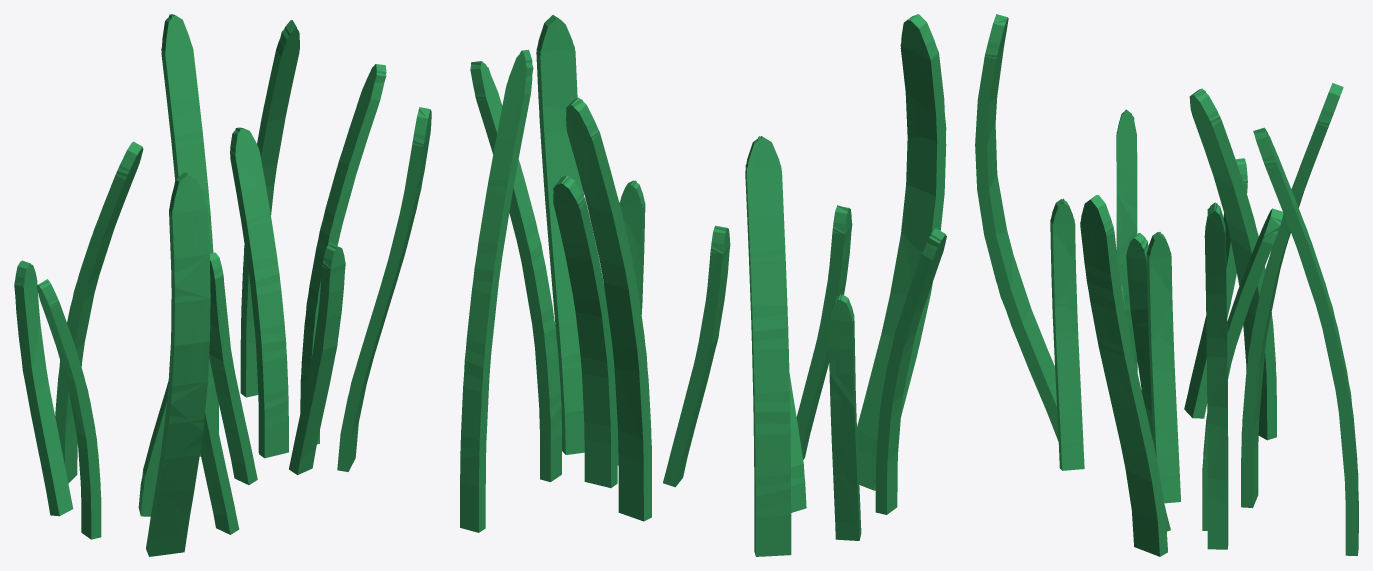
File: littleGrassL.fbx
The picture shows the model from 3 angles, left to right: view 1: azimuth 30°, elevation 25°; view 2: azimuth 150°, elevation 25°; view 3: azimuth 270°, elevation 25°; orthographic projection. The views are drawn at different scales.
Visible parts, largest first — view 1: littleGrassL, littleGrassL2, littleGrassL1; view 2: littleGrassL2, littleGrassL, littleGrassL1; view 3: littleGrassL2, littleGrassL, littleGrassL1.
Part boxes in pixels (<box>): littleGrassL: <box>15,14,430,556</box>; littleGrassL2: <box>14,14,431,555</box>; littleGrassL1: <box>24,15,431,556</box>; littleGrassL2: <box>460,14,946,555</box>; littleGrassL: <box>461,15,946,556</box>; littleGrassL1: <box>460,14,946,556</box>; littleGrassL2: <box>975,14,1358,554</box>; littleGrassL: <box>975,14,1358,556</box>; littleGrassL1: <box>975,18,1358,556</box>.
Bounding box in the file's own units: 26.63 × 26.99 × 21.8.
